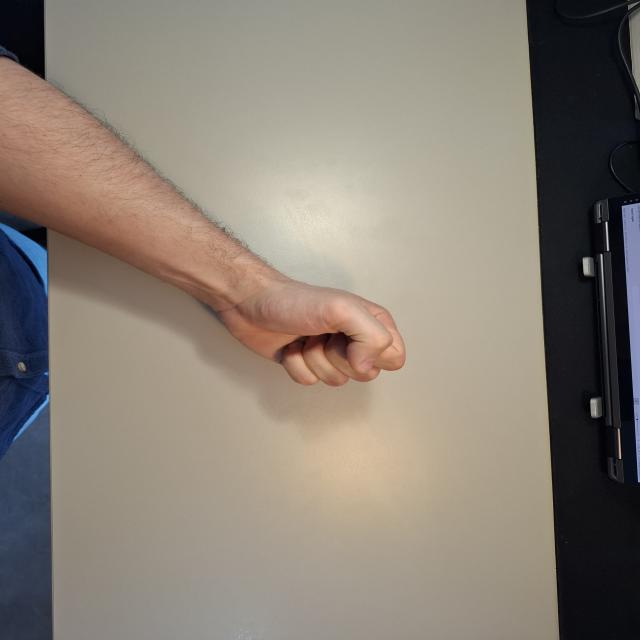glove_off: (206, 272, 409, 388)
